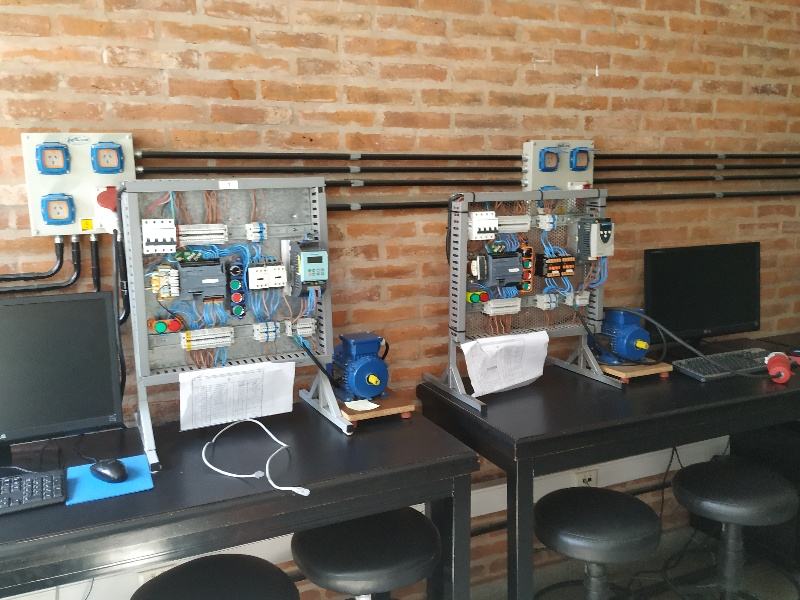Tablero 3: (124, 183, 337, 364)
Tablero 4: (460, 196, 618, 332)
